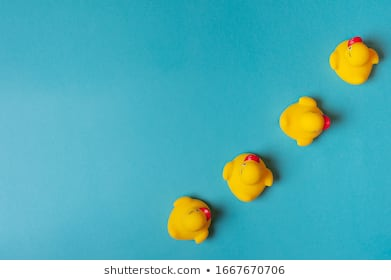duck: (205, 143, 293, 206), (319, 30, 386, 96), (271, 91, 337, 154), (163, 192, 224, 249)
